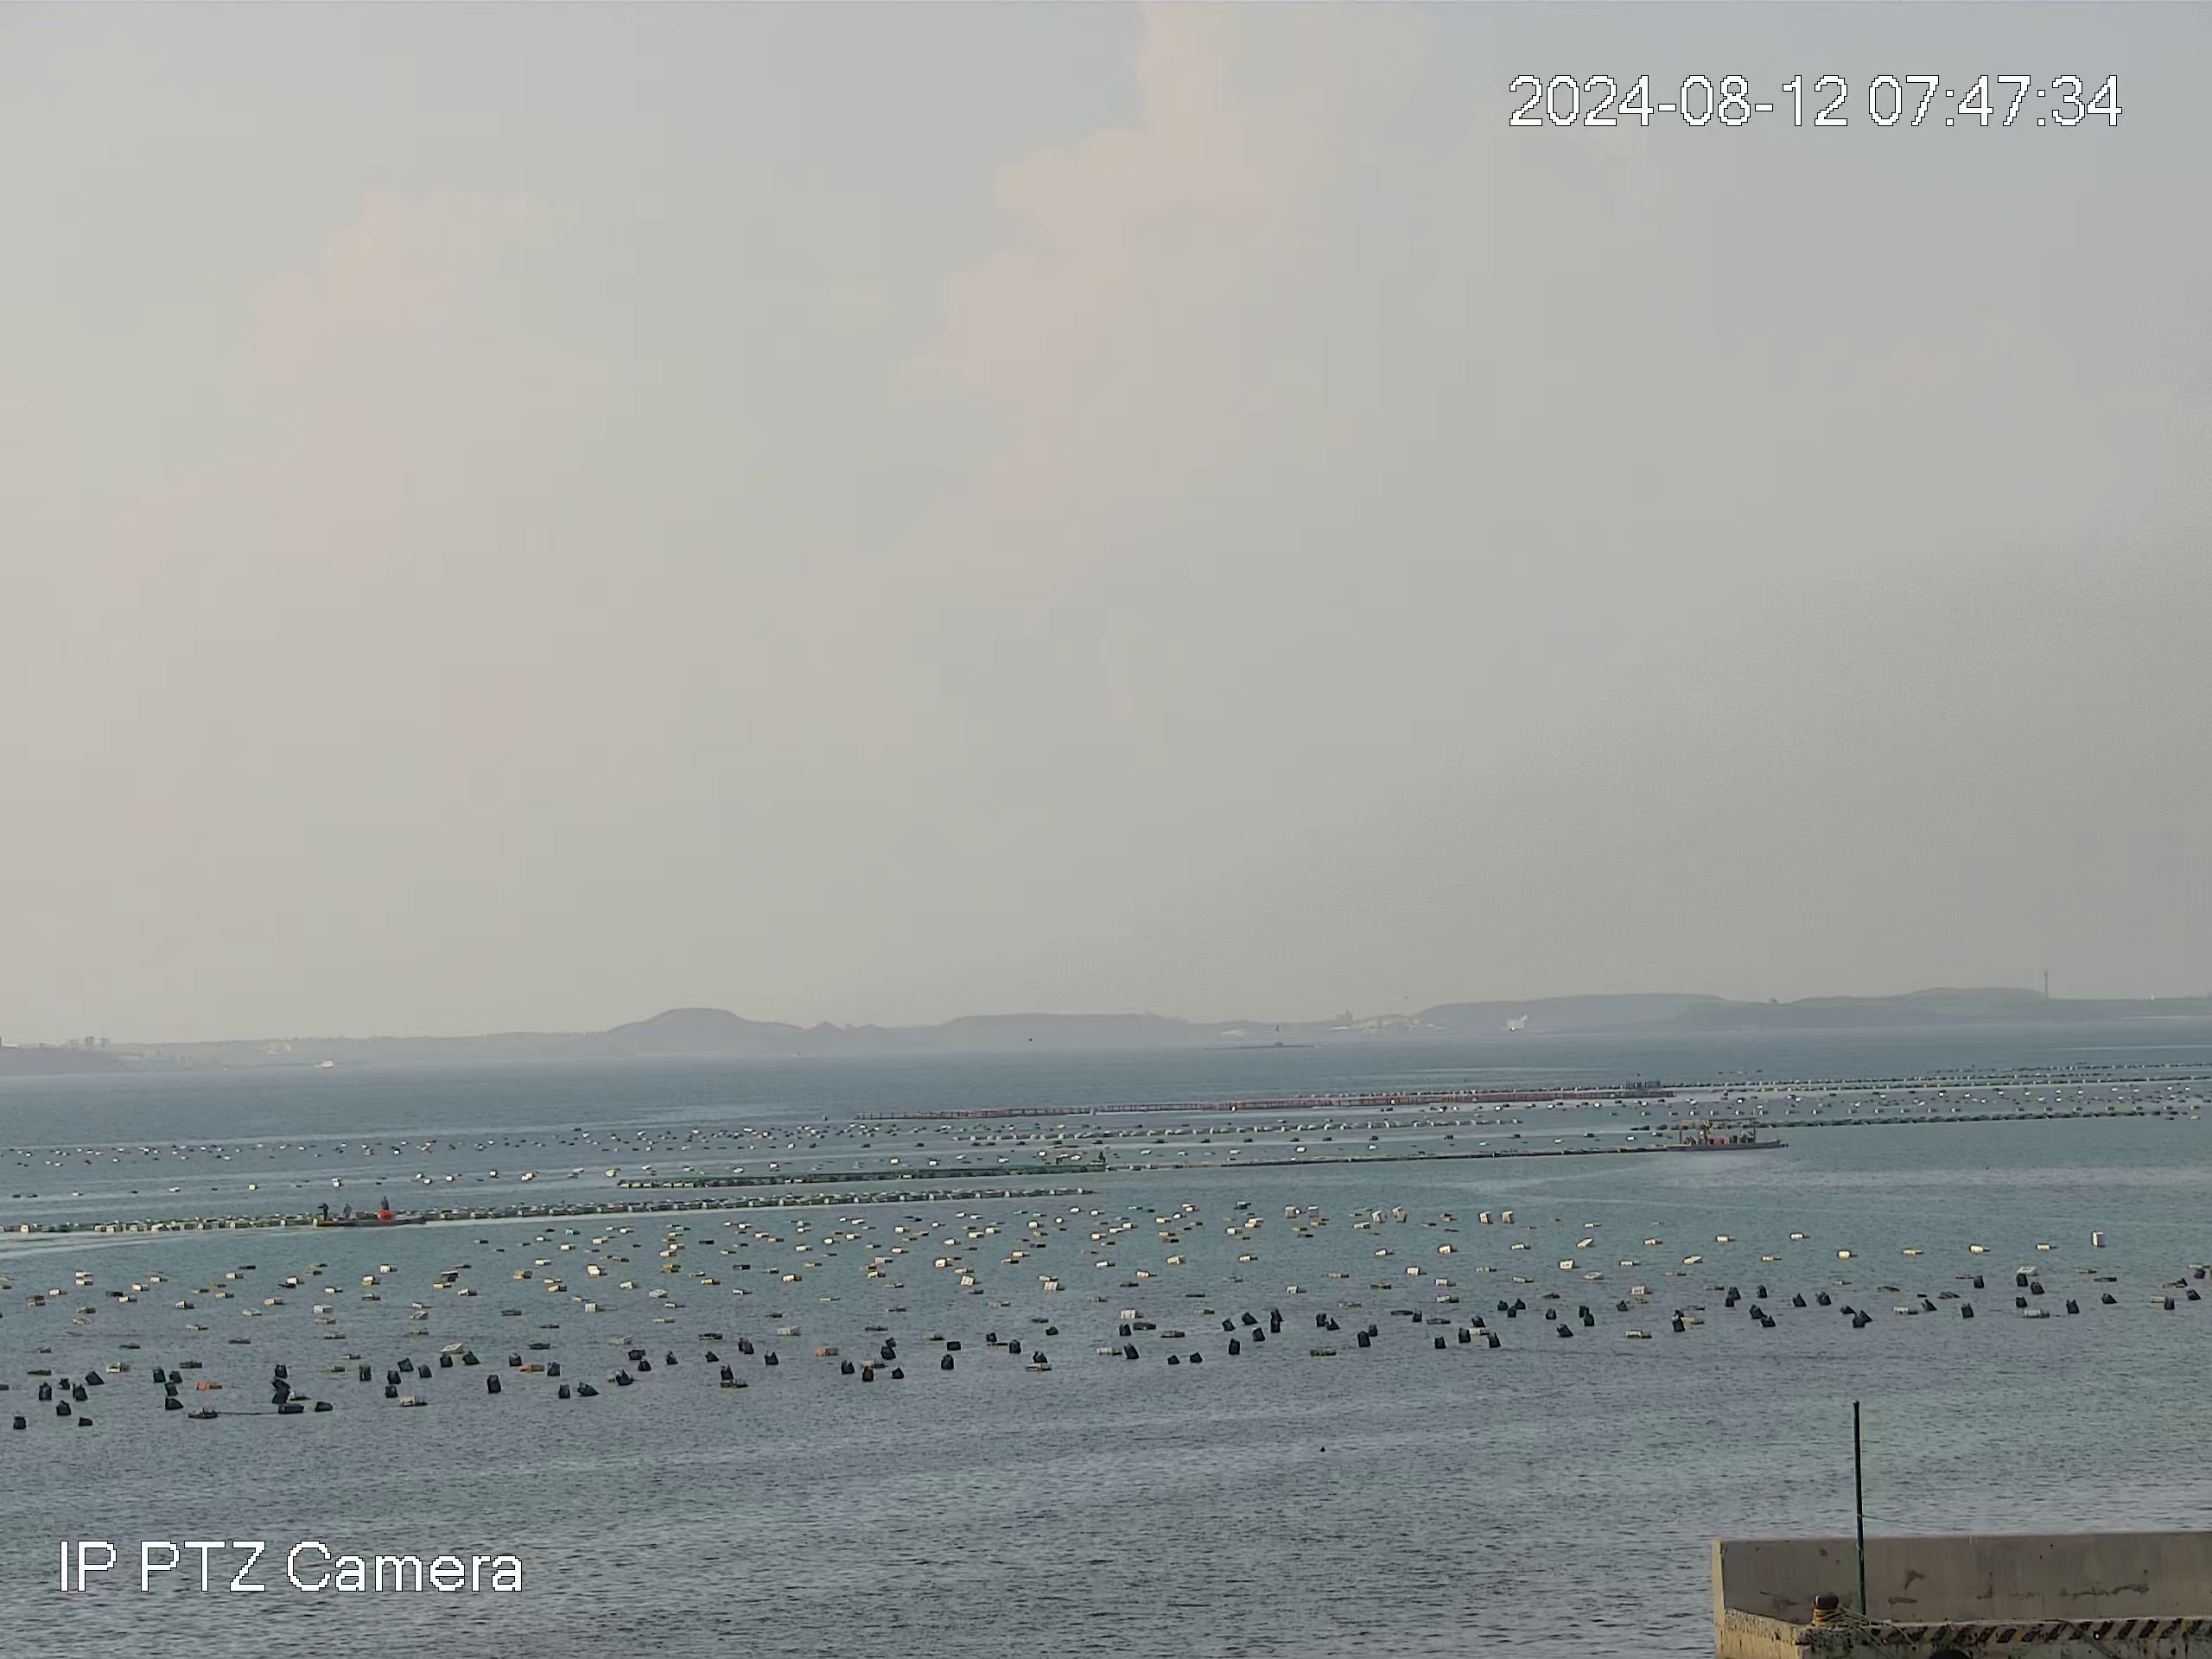boat: (314, 1195, 427, 1227), (1677, 1117, 1757, 1148)
